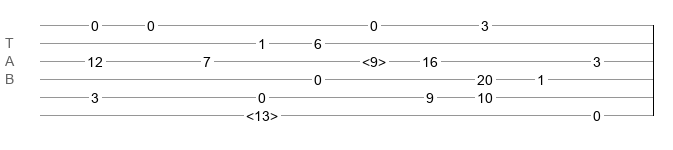0: (91, 18, 99, 28), (147, 18, 155, 28), (258, 90, 266, 100), (314, 72, 322, 82), (370, 18, 378, 28), (593, 108, 601, 118)
1: (258, 36, 266, 46), (537, 72, 545, 82)
10: (477, 90, 493, 100)
12: (87, 54, 103, 64)
16: (422, 54, 438, 64)
20: (477, 72, 493, 82)
3: (91, 90, 99, 100), (481, 18, 489, 28), (593, 54, 601, 64)
6: (314, 36, 322, 46)
7: (203, 54, 211, 64)
9: (426, 90, 434, 100)
harmonic: (246, 108, 278, 118), (362, 54, 386, 64)
